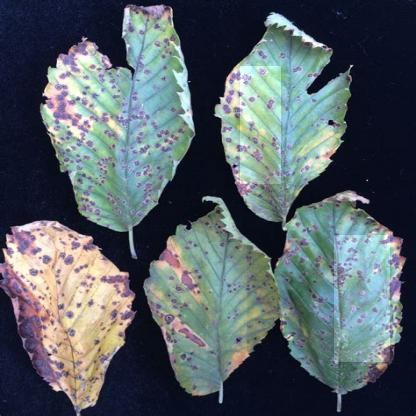black-spot: (76, 85, 159, 190), (334, 235, 390, 362), (240, 66, 281, 184), (206, 242, 247, 350)
